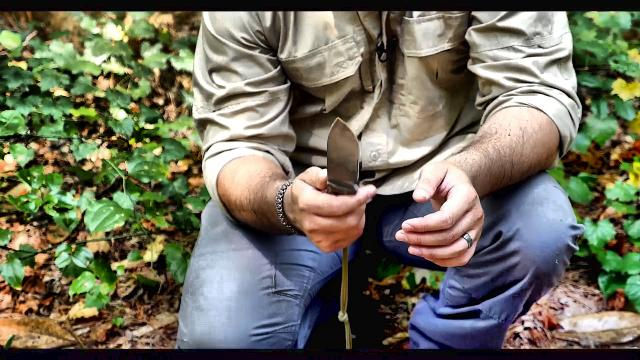knife: (308, 112, 378, 224)
